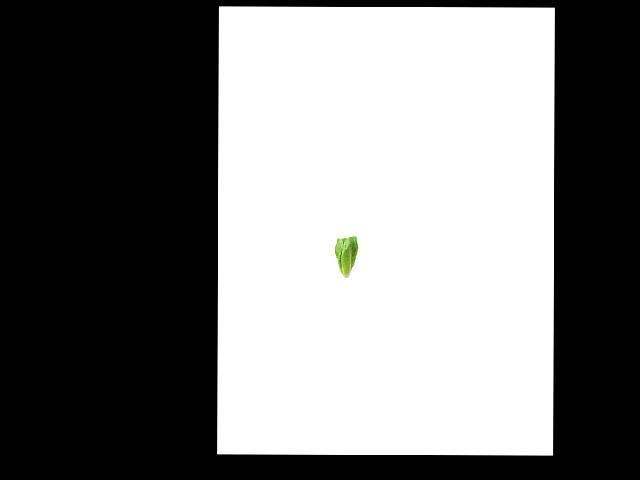lettuce: (330, 234, 361, 279)
